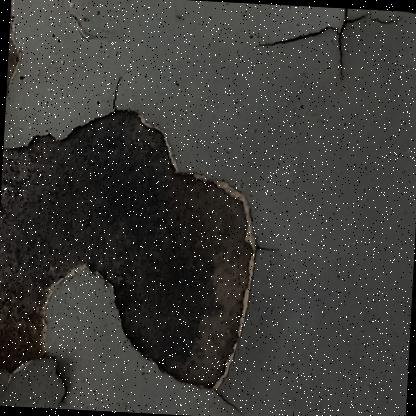Crack: (0, 0, 305, 415), (239, 2, 415, 90)
